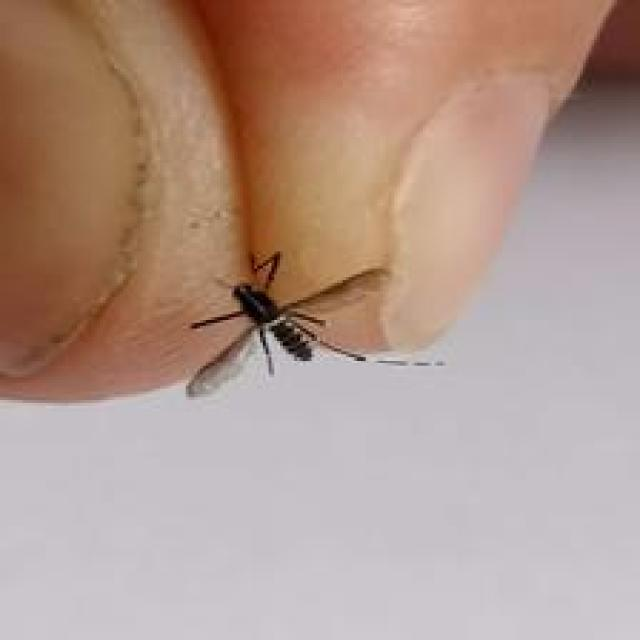Aedes albopictus: (184, 249, 444, 397)
